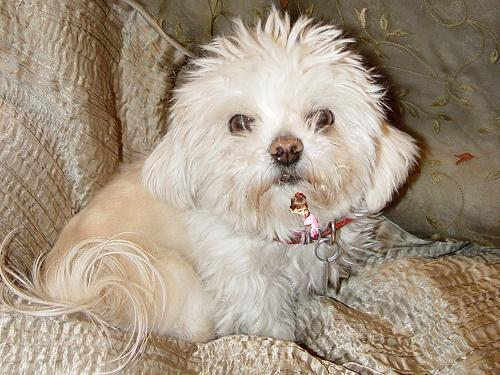tampered: (290, 193, 318, 241)
